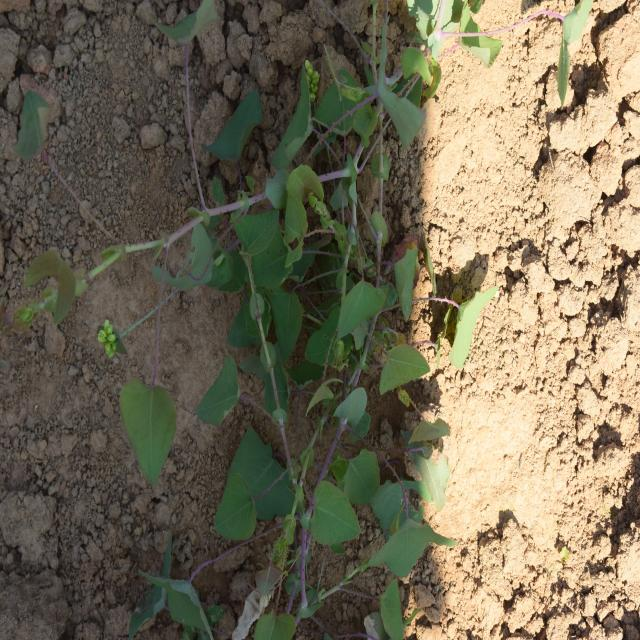Asiatic_Smartweed: (13, 90, 180, 469), (307, 330, 449, 598), (204, 211, 311, 554)
